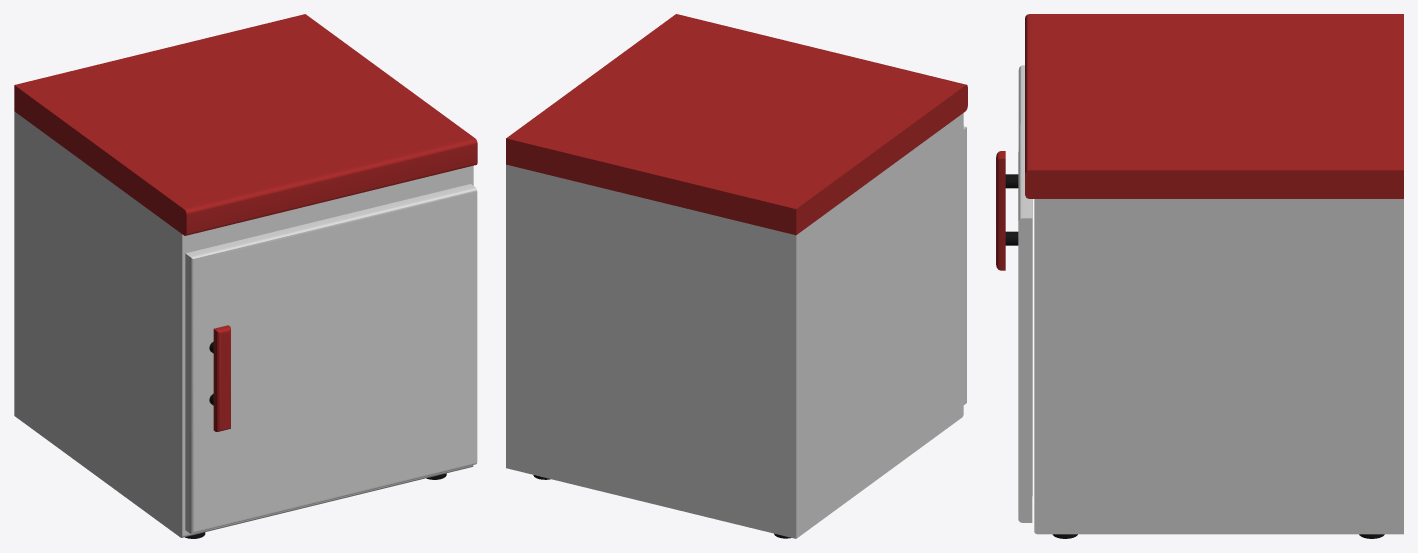
Rendered from cupboardl.fbx.
3 renders of one model, left to right at view 1: azimuth 30°, elevation 25°; view 2: azimuth 150°, elevation 25°; view 3: azimuth 270°, elevation 25°, orthographic. The views are drawn at different scales.
Parts seen in each view (by area): view 1: pCube21, cupboard_door1; view 2: pCube21, cupboard_door1; view 3: pCube21, cupboard_door1.
Part boxes in pixels (box(x1,y1,x2,y2)): pCube21: box(14, 14, 477, 537); cupboard_door1: box(185, 184, 477, 533); pCube21: box(506, 14, 967, 538); cupboard_door1: box(963, 126, 966, 404); pCube21: box(1025, 14, 1403, 534); cupboard_door1: box(996, 65, 1032, 522).
Bounding box in the file's own units: 3 × 3.37 × 3.31.
